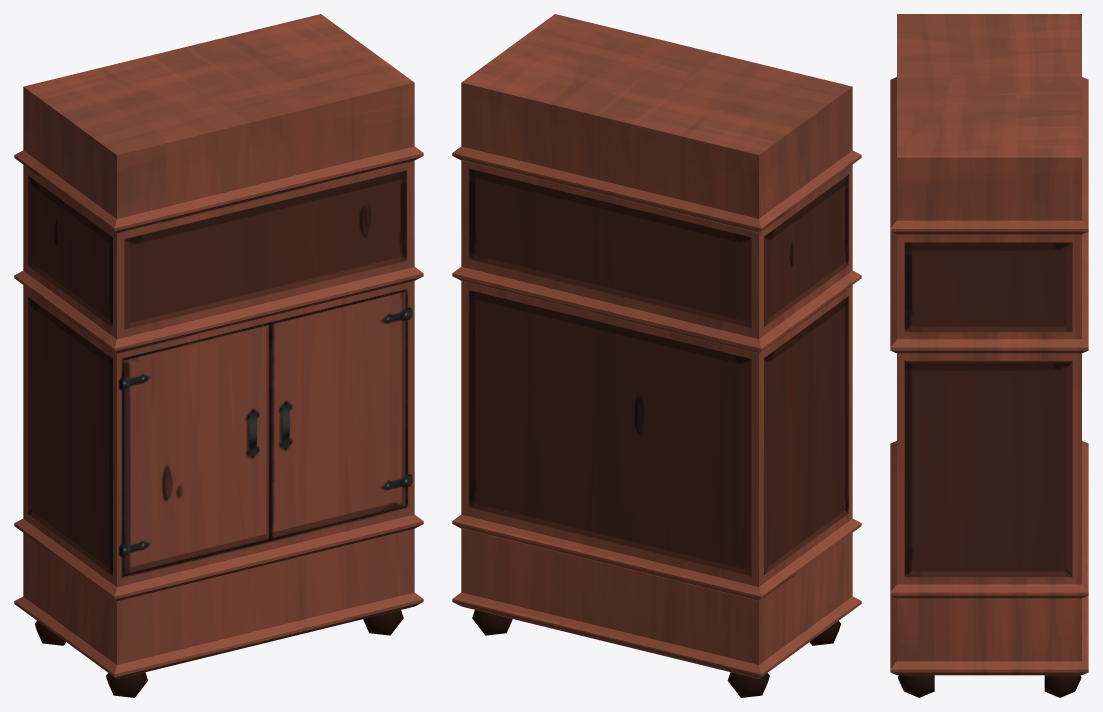
The model's file is Closet_Mod.FBX.
3 views of the same model, side by side, from view 1: azimuth 30°, elevation 25°; view 2: azimuth 150°, elevation 25°; view 3: azimuth 270°, elevation 25° (orthographic).
Visible parts, largest first — view 1: Closet; view 2: Closet; view 3: Closet.
Boxes of the visible parts, bbox=[...] form: Closet: bbox=[14, 14, 423, 697]; Closet: bbox=[452, 14, 861, 697]; Closet: bbox=[890, 14, 1088, 697].
Size of the model in its own units: 1.14 by 1.94 by 0.6424.
1 material, 1 textured.
